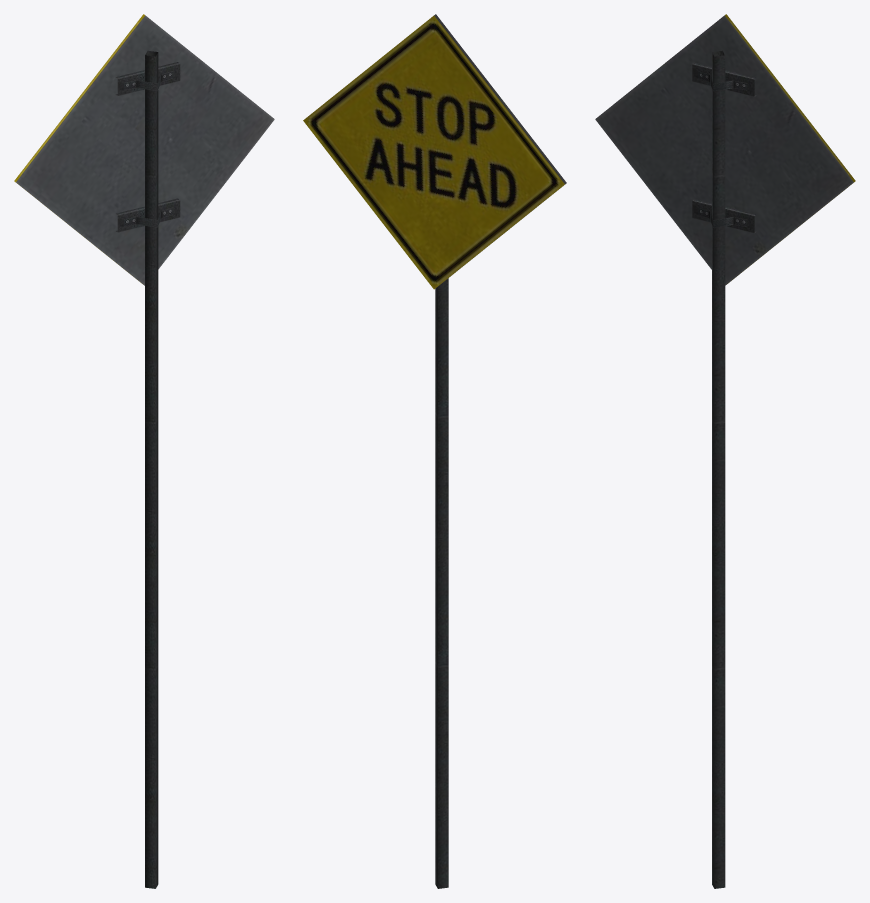
The model's file is Stop_Ahead.glb.
3 renders of one model, left to right at view 1: azimuth 30°, elevation 25°; view 2: azimuth 150°, elevation 25°; view 3: azimuth 330°, elevation 25°, orthographic.
Parts seen in each view (by area): view 1: Stop_Ahead__LOD1; view 2: Stop_Ahead__LOD1; view 3: Stop_Ahead__LOD1.
Boxes of the visible parts, x1,y1,x2,y2 form: Stop_Ahead__LOD1: (14,14,274,888); Stop_Ahead__LOD1: (303,14,566,888); Stop_Ahead__LOD1: (595,14,855,888).
Size of the model in its own units: 0.9743 by 3.11 by 0.0893.
Materials: 1 (1 with a texture image).
